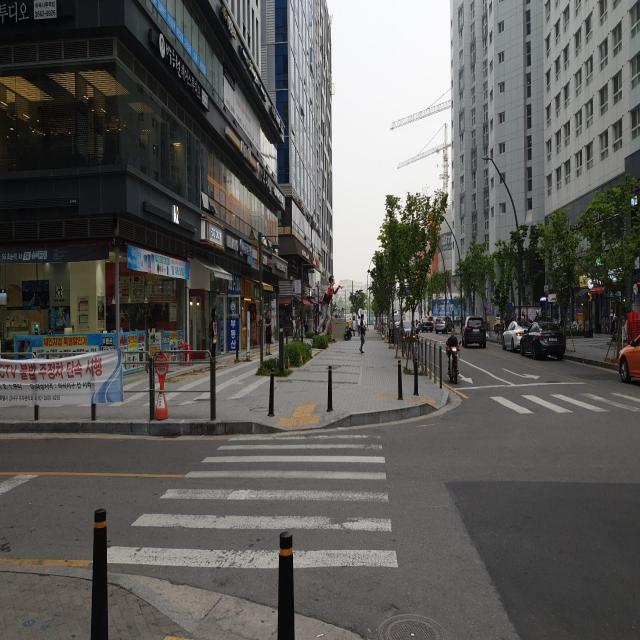횡단보도: (91, 431, 400, 572), (451, 384, 640, 420)
